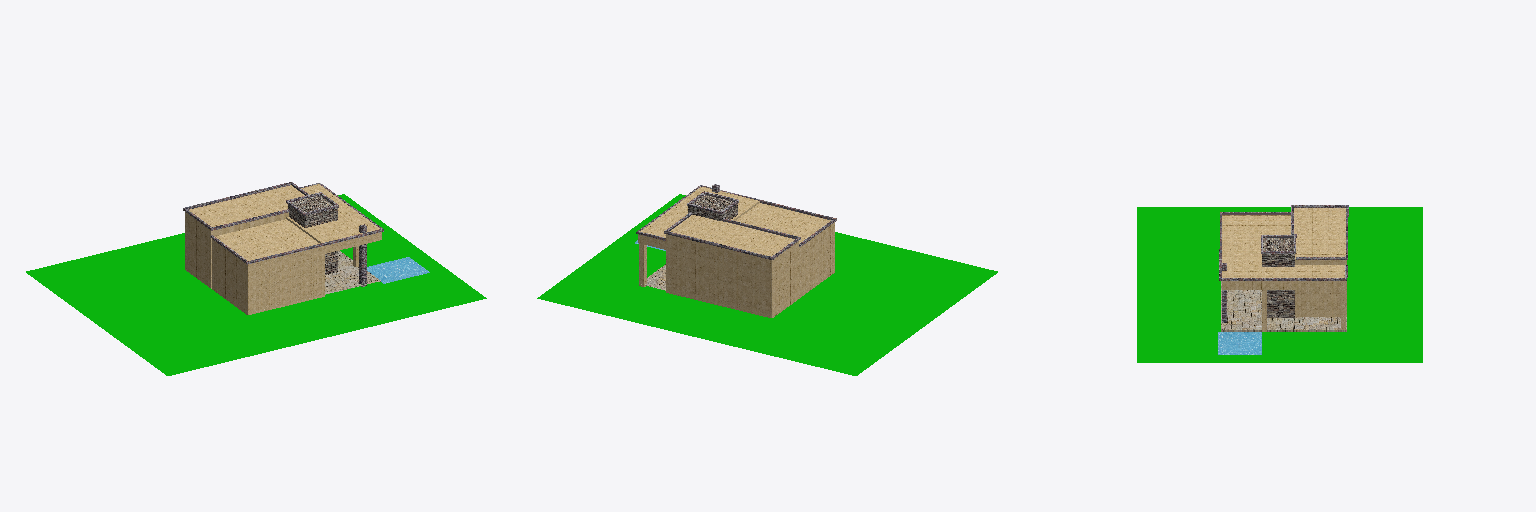
The picture shows the model from 3 angles: view 1: azimuth 30°, elevation 25°; view 2: azimuth 150°, elevation 25°; view 3: azimuth 270°, elevation 25°; orthographic projection.
Bounding box in the file's own units: 115 × 27.75 × 89.37.
Materials: 6 (5 with a texture image).